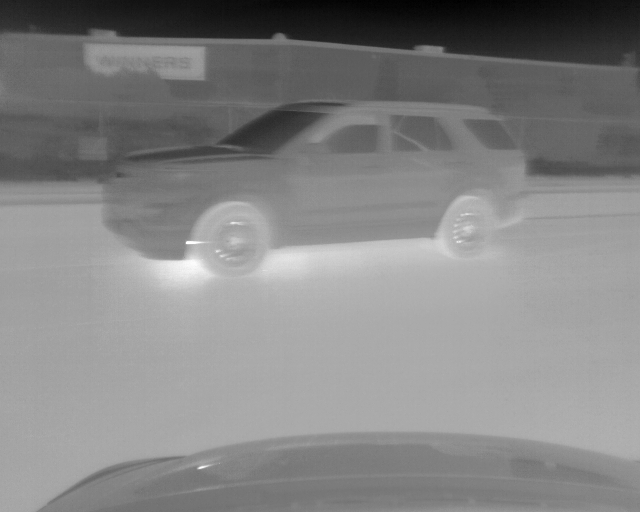car: (99, 100, 529, 276)
